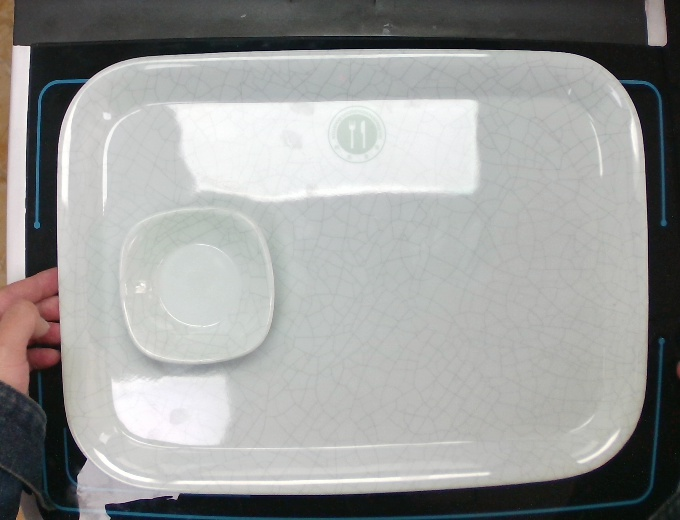JYsf-Si_Fang_Die: (109, 198, 283, 374)
